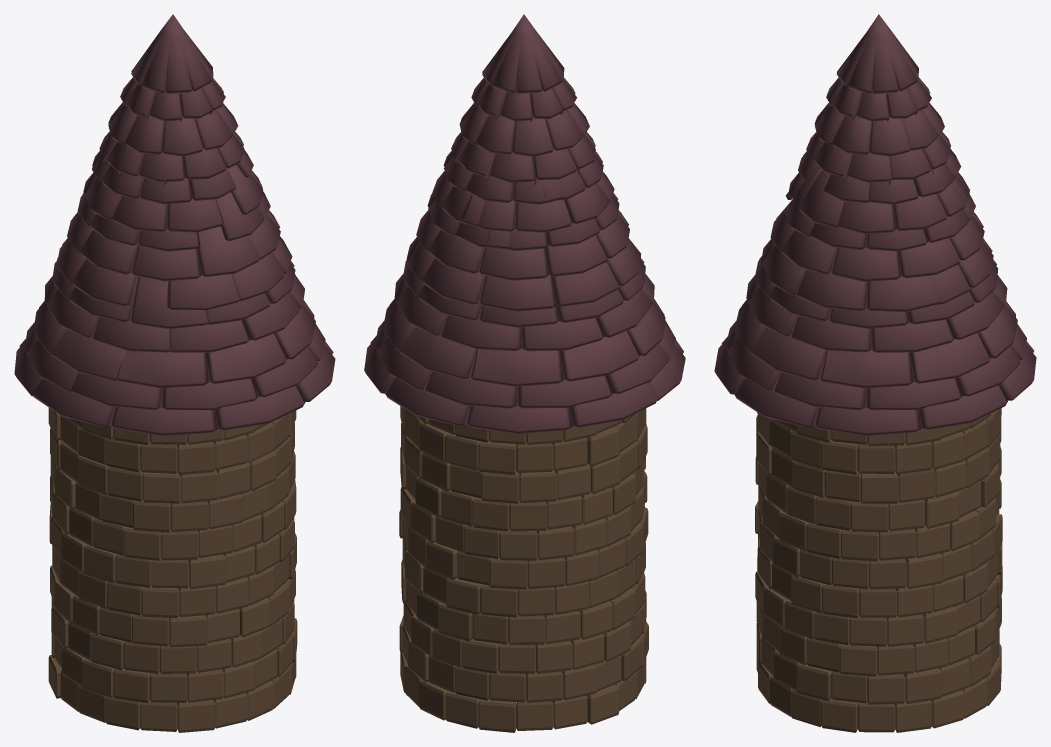
File: Brick tower.glb
3 views of the same model, side by side, from view 1: azimuth 30°, elevation 25°; view 2: azimuth 150°, elevation 25°; view 3: azimuth 270°, elevation 25° (orthographic).
Visible parts, largest first — view 1: Tiles.007; view 2: Tiles.007; view 3: Tiles.007.
Boxes of the visible parts, x1,y1,x2,y2 form: Tiles.007: (14, 14, 335, 732); Tiles.007: (364, 14, 685, 732); Tiles.007: (714, 14, 1036, 732).
Bounding box in the file's own units: 4.21 × 9.62 × 4.2.
